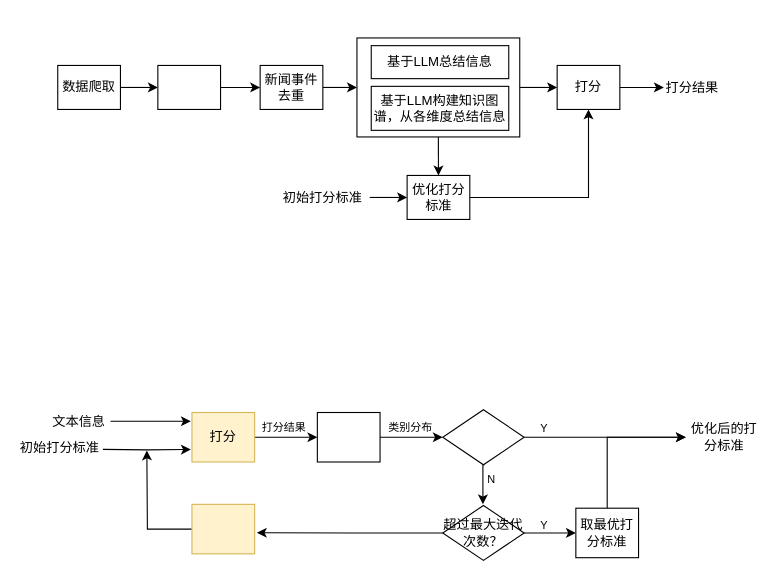
Image size: 782x580. Some labels were removed from this diagram. The shapes that lost their labels are listed below. From the top down, each one's box as (x1, y1, x2, y2) in pixels, then its label:
(157, 64, 221, 109): 数据清洗
(356, 37, 520, 137): 信息抽取
(316, 411, 380, 462): 分析打分结果分布
(442, 409, 524, 465): 分布满足要求？
(191, 503, 255, 554): 修改打分标准
